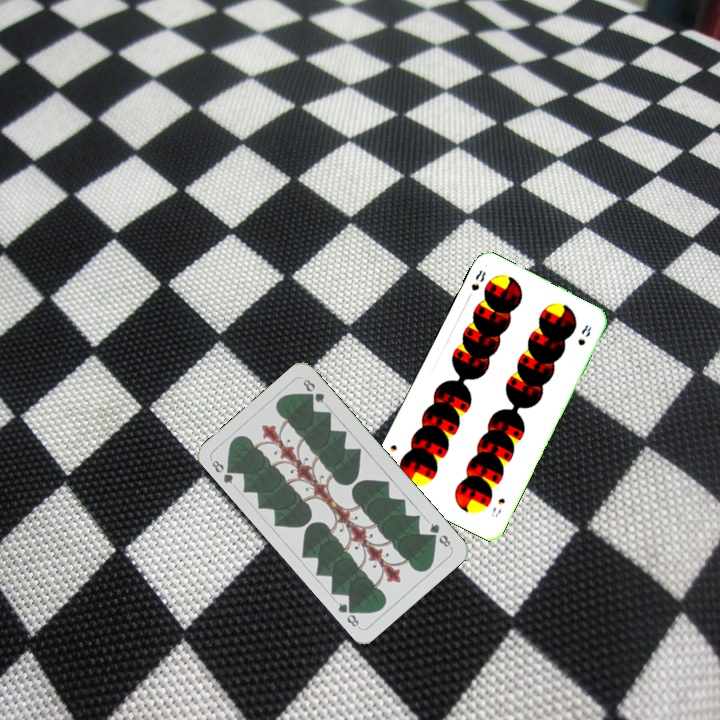G8: (208, 456, 238, 487), (425, 519, 453, 550)
S8: (467, 266, 489, 293), (487, 494, 508, 520)
